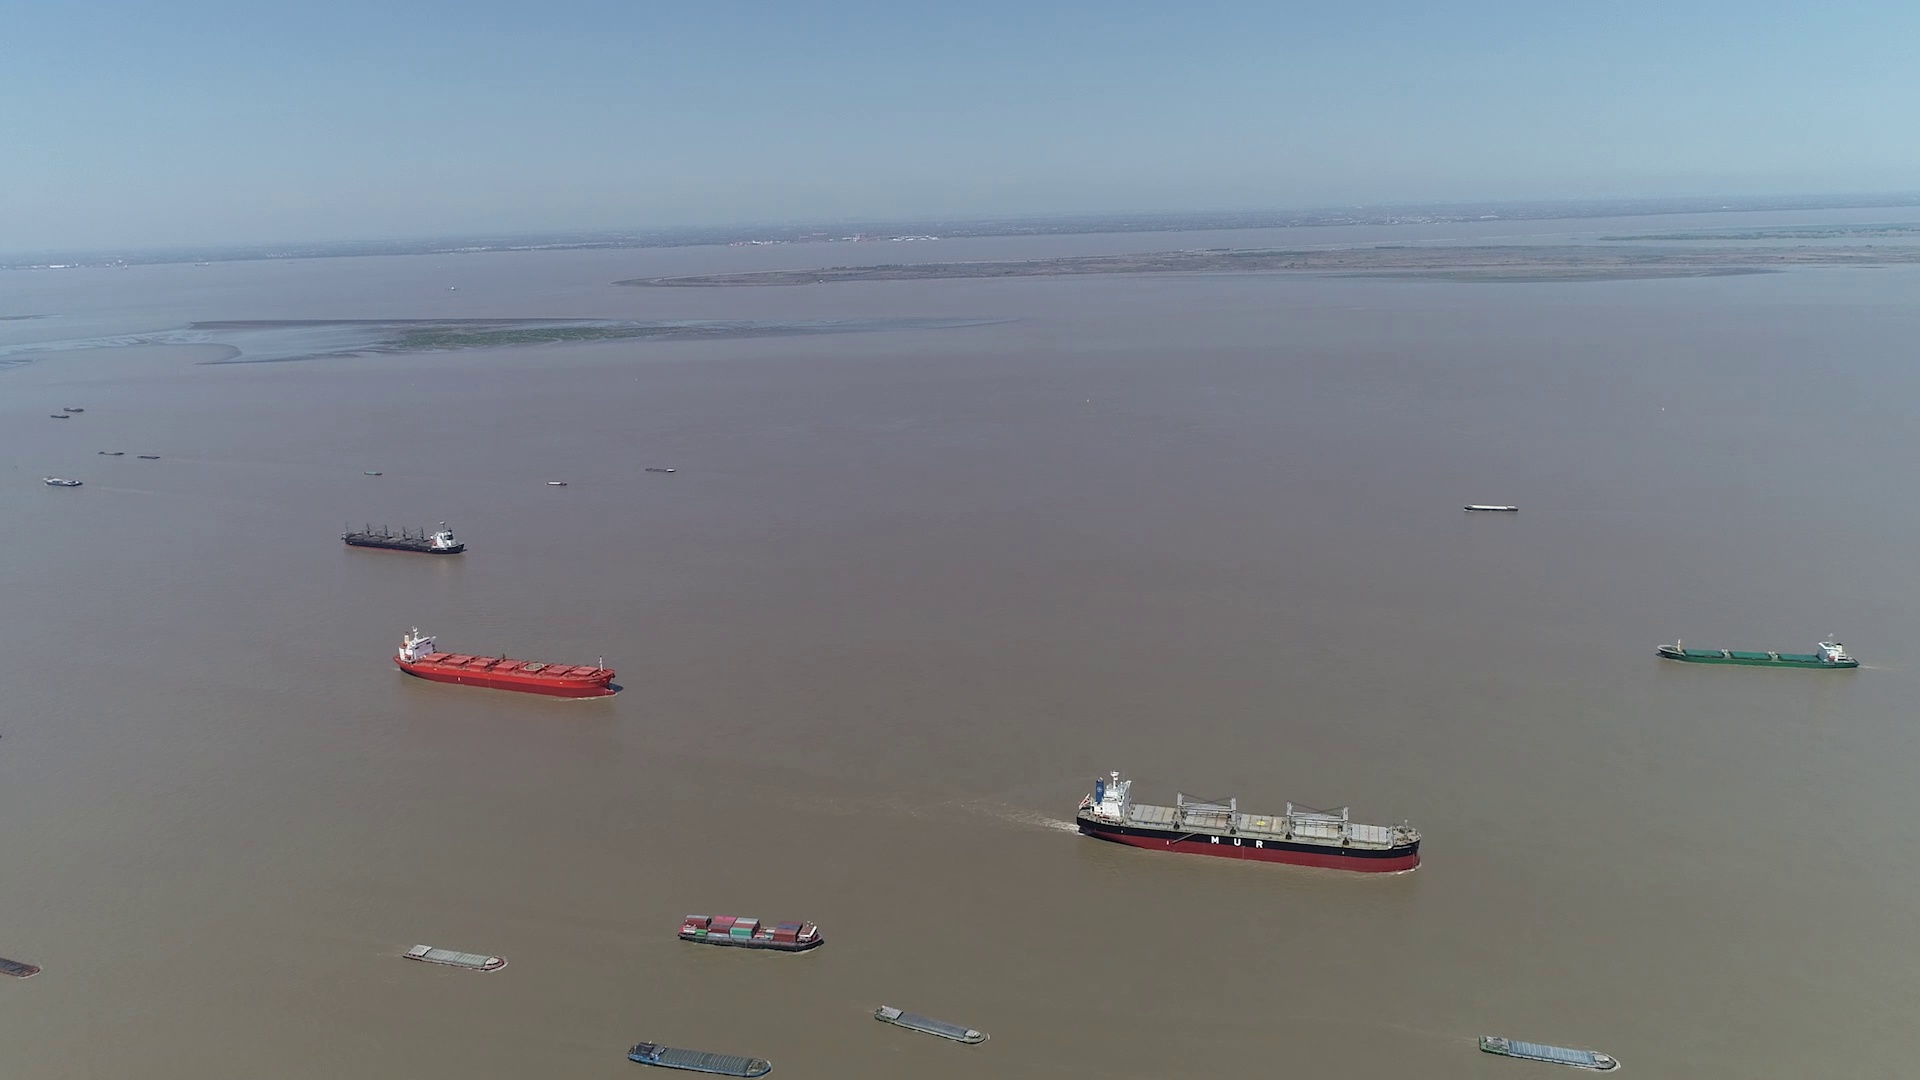ship: (1077, 771, 1423, 872), (394, 629, 613, 698), (1655, 636, 1859, 670), (678, 914, 823, 953), (1477, 1034, 1618, 1073), (629, 1040, 774, 1077), (876, 1005, 988, 1048), (342, 521, 467, 554), (404, 942, 508, 971), (0, 951, 36, 978), (1462, 502, 1516, 513), (46, 473, 84, 487)
